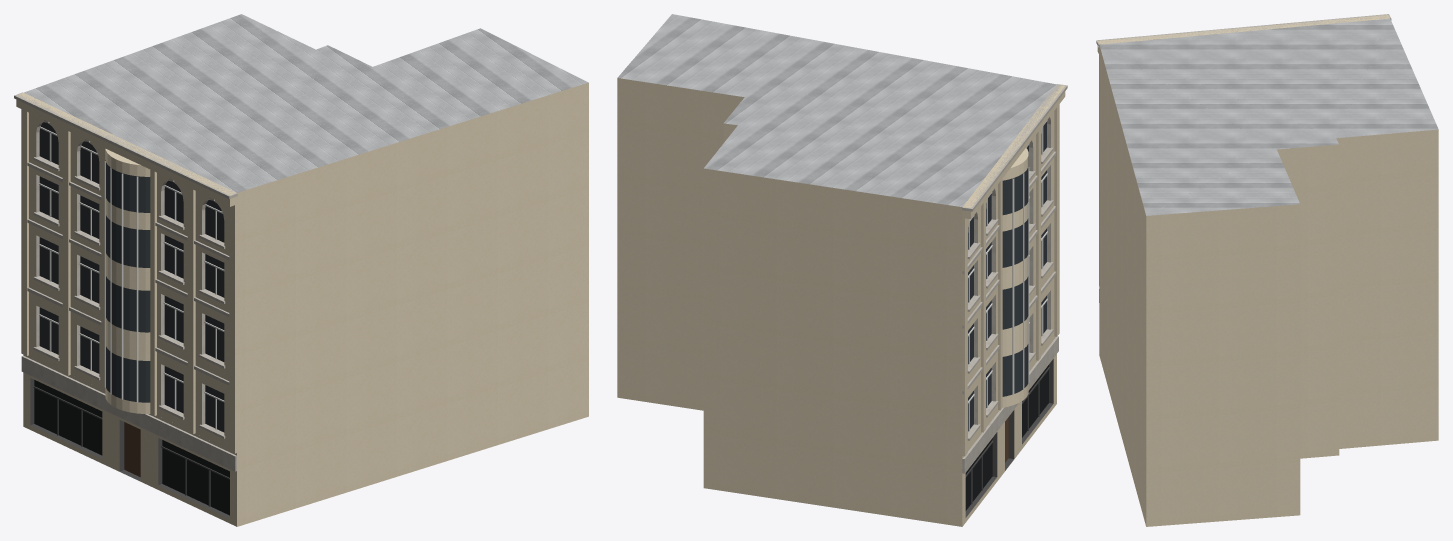
The picture shows the model from 3 angles, left to right: view 1: azimuth 30°, elevation 25°; view 2: azimuth 150°, elevation 25°; view 3: azimuth 270°, elevation 25°; orthographic projection. The views are drawn at different scales.
Visible parts, largest first — view 1: bldg_501410388_landmark; view 2: bldg_501410388_landmark; view 3: bldg_501410388_landmark.
Part boxes in pixels (x1,y1,x2,y2): bldg_501410388_landmark: (14,14,588,526); bldg_501410388_landmark: (617,14,1067,526); bldg_501410388_landmark: (1096,14,1438,526).
Size of the model in its own units: 24.5 by 17.6 by 17.56.
8 materials, 3 textured.
